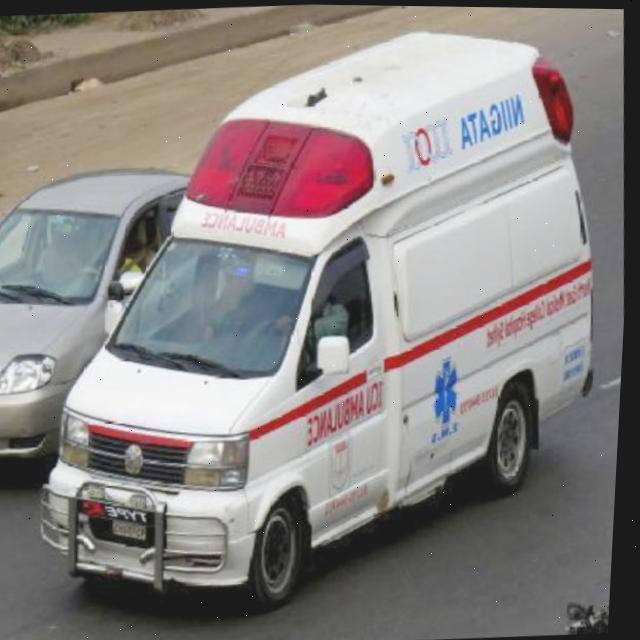emergency: (14, 15, 624, 623)
